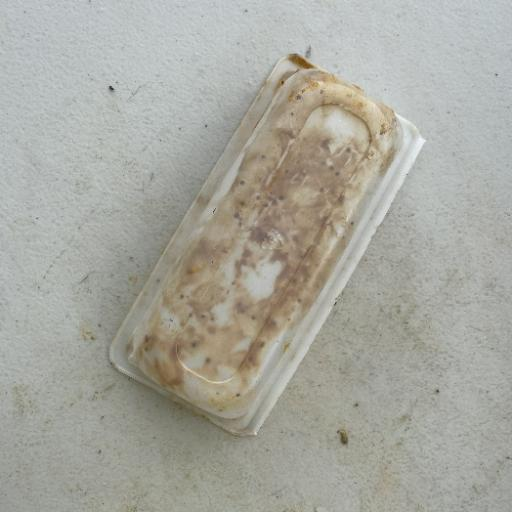Plastic: (108, 52, 420, 437)
